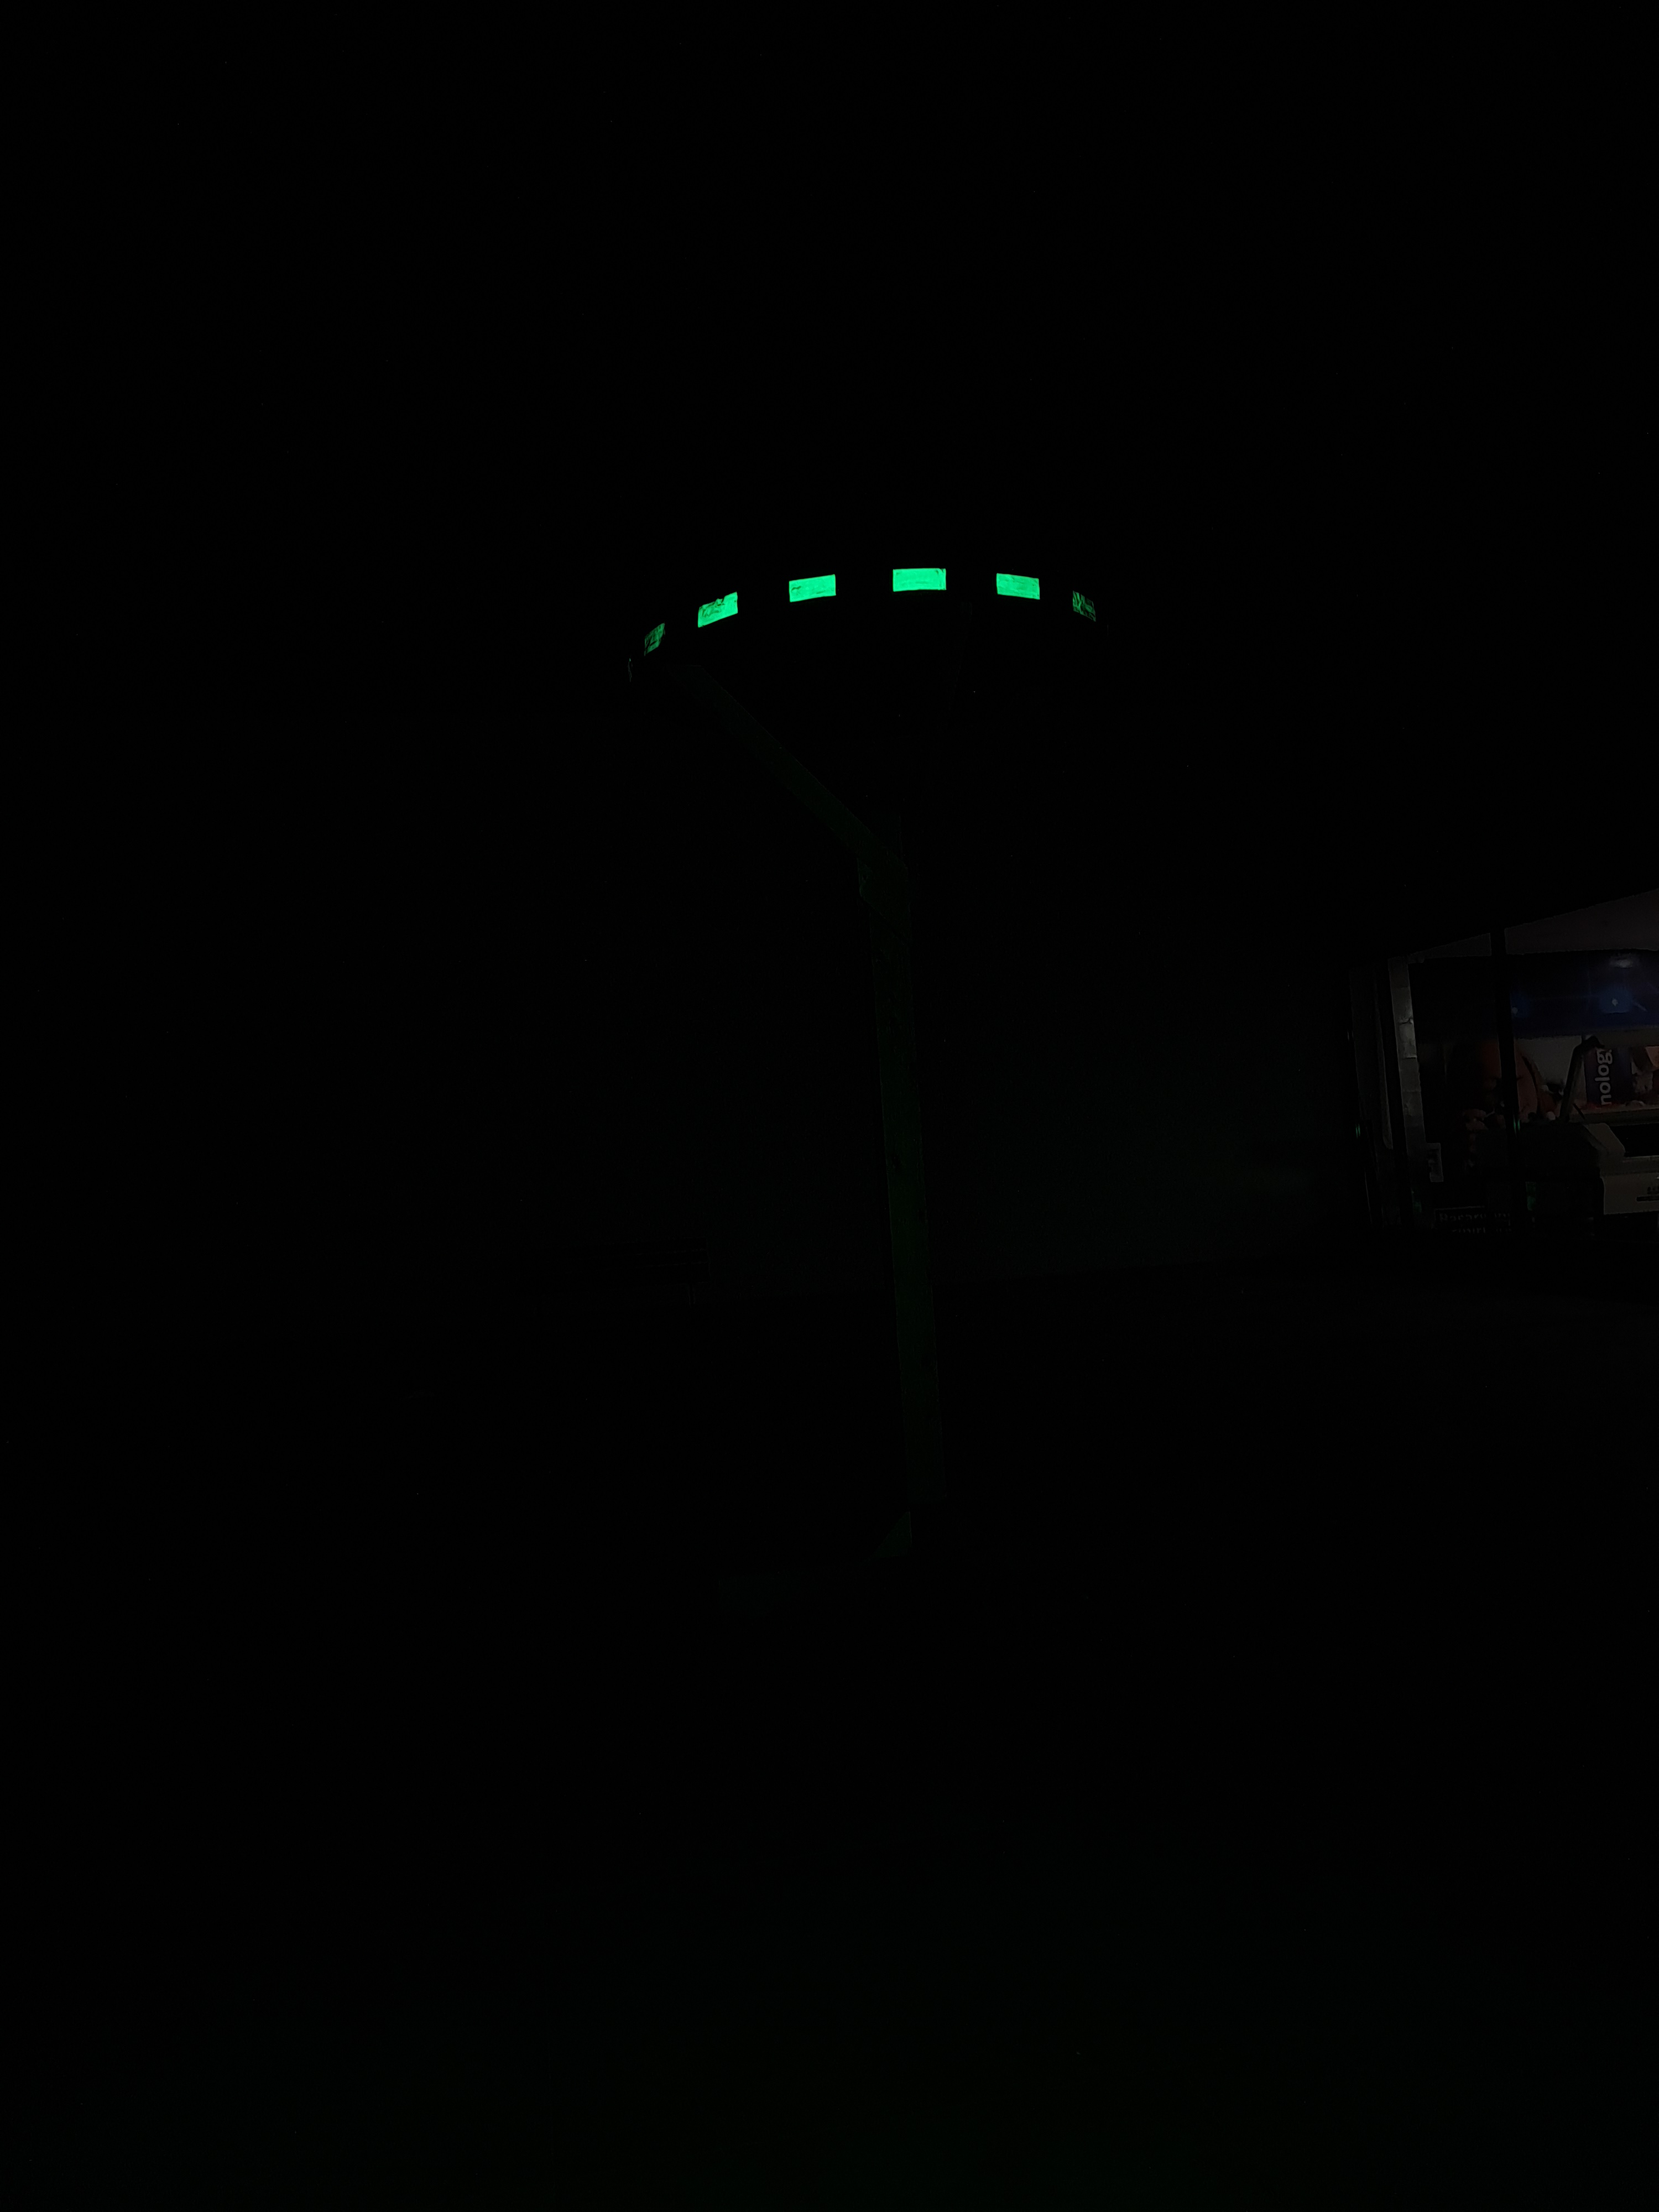hoop: (594, 540, 1152, 695)
